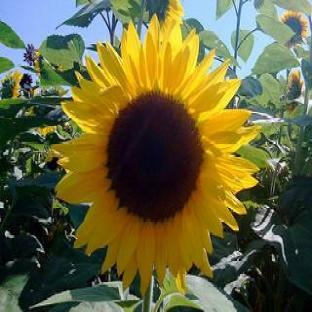sunflower: (45, 0, 262, 312)
